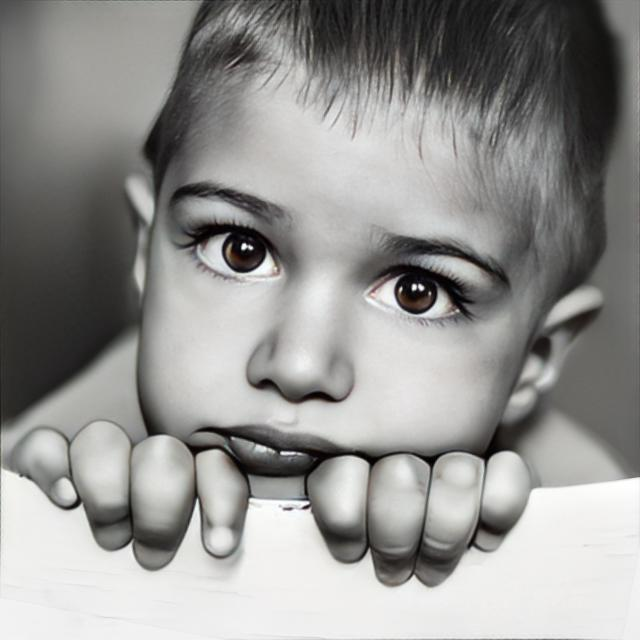fear: (137, 65, 537, 503)
